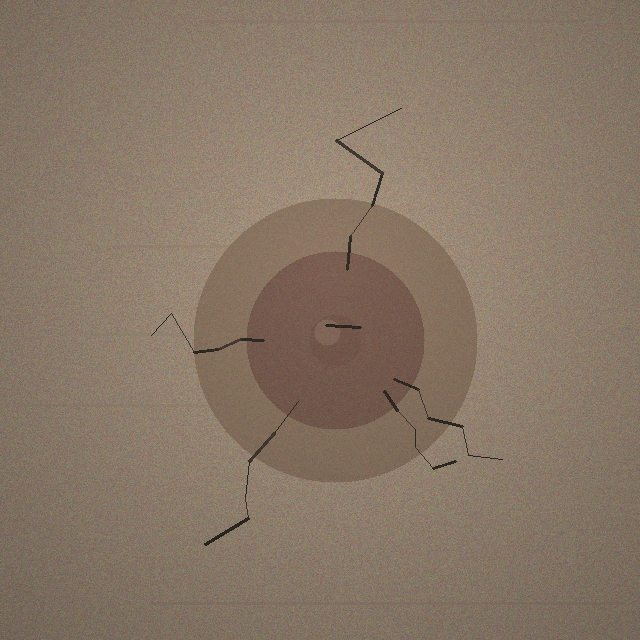crack: (193, 198, 477, 482)
